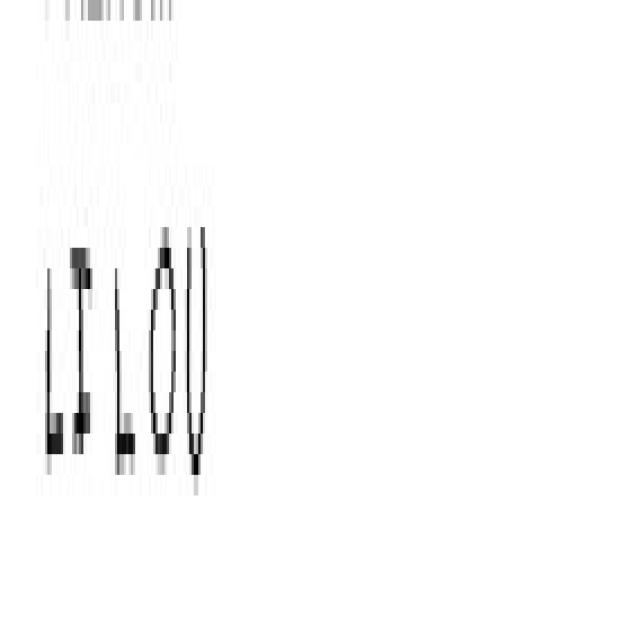I: (70, 219, 102, 516)
L: (106, 178, 134, 600), (40, 219, 64, 520)
O: (142, 196, 178, 539)
U: (182, 184, 215, 548)
